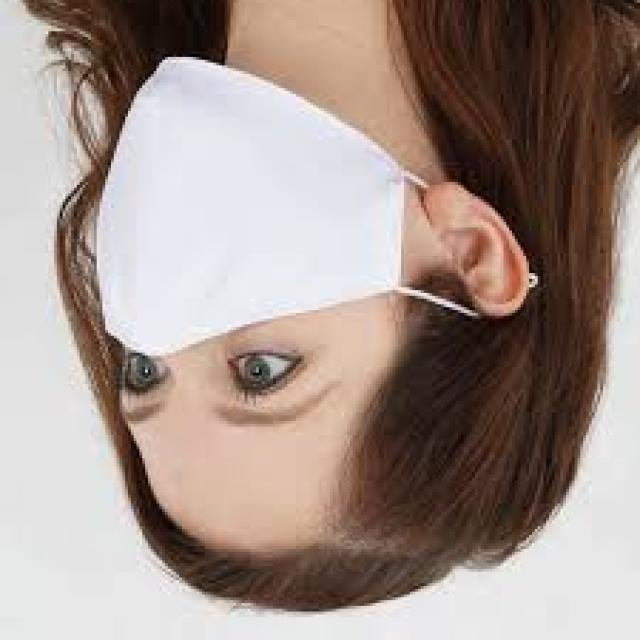Mask: (78, 48, 449, 361)
